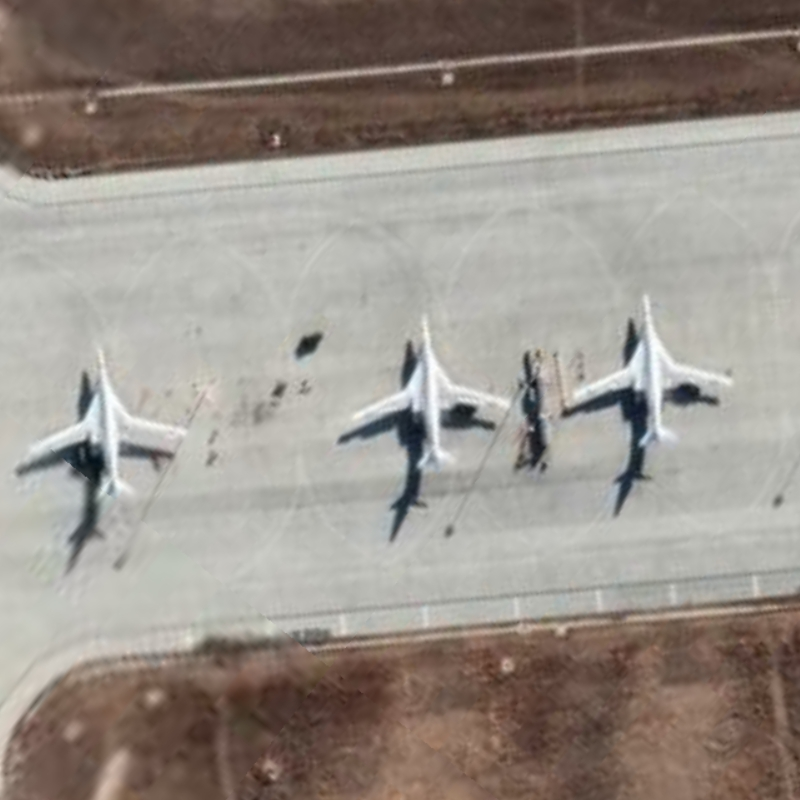A6: (348, 309, 518, 477), (564, 290, 736, 452), (22, 343, 191, 507)
